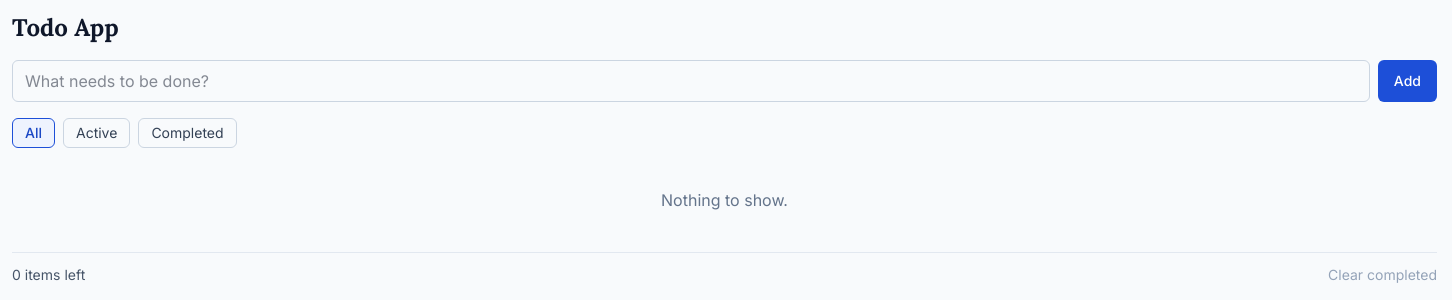
Scenario: TodoPage › adds a todo and shows the remaining count
In the field named "New todo": (691, 81) x1=12 y1=60 x2=1370 y2=102, type "Buy milk"
Then press Enter
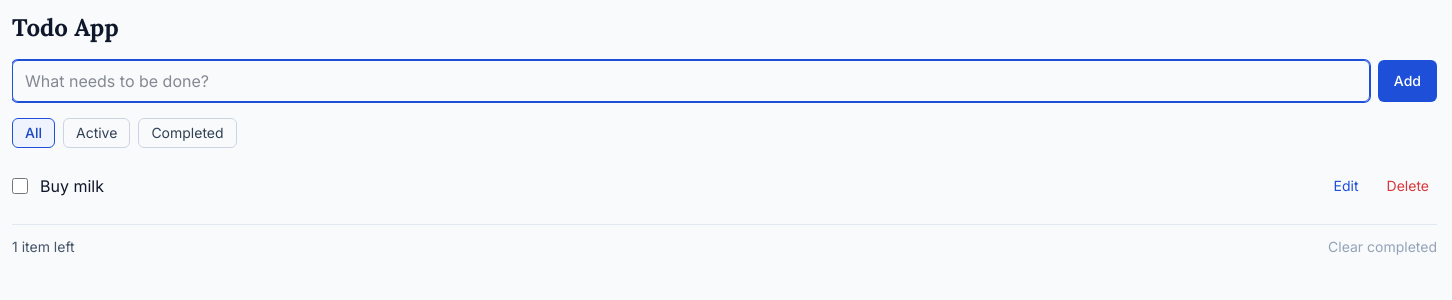
Expected: the text "Buy milk" is shown, x1=40 y1=176 x2=104 y2=196
Expected: the text "1 item left" is shown, x1=12 y1=237 x2=75 y2=257
